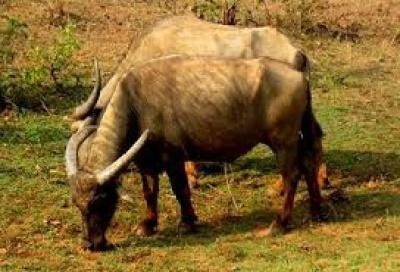buffalo: (66, 16, 325, 249)
